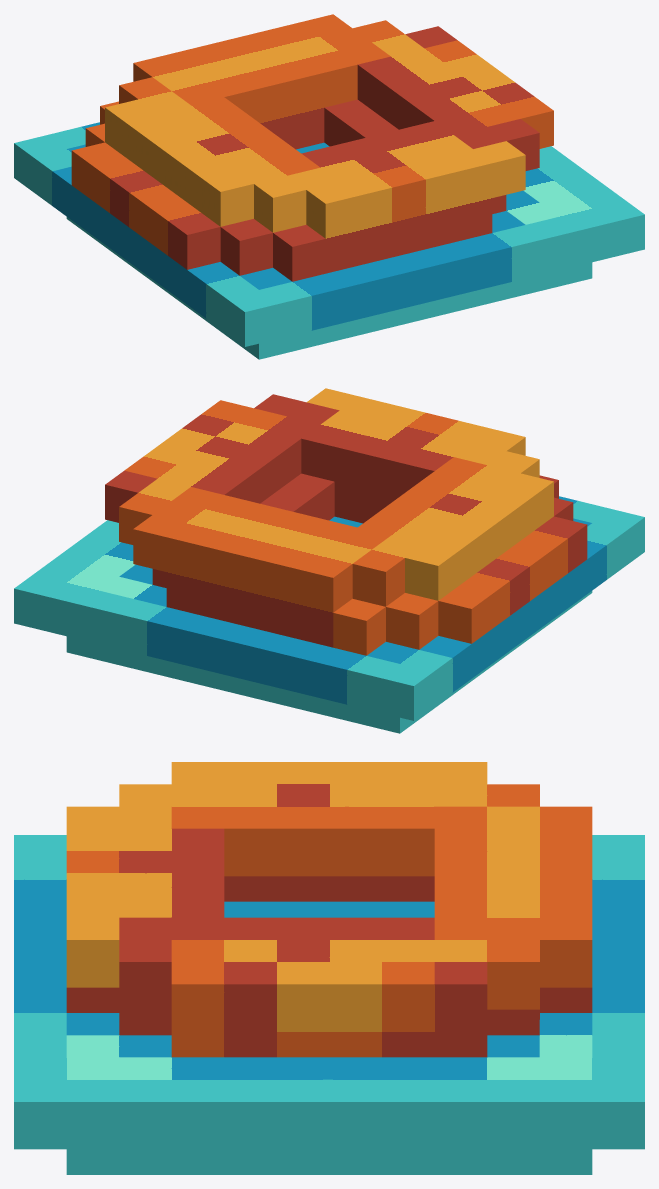
File: SushiBoost1.fbx
3 renders of one model, top to bottom at view 1: azimuth 30°, elevation 25°; view 2: azimuth 150°, elevation 25°; view 3: azimuth 270°, elevation 25°, orthographic. The views are drawn at different scales.
Parts seen in each view (by area): view 1: SushiBoost1; view 2: SushiBoost1; view 3: SushiBoost1.
Part boxes in pixels (x1=…): SushiBoost1: x1=14, y1=14, x2=644, y2=359; SushiBoost1: x1=14, y1=388, x2=644, y2=733; SushiBoost1: x1=14, y1=762, x2=644, y2=1174.
Size of the model in its own units: 1.19 by 0.3972 by 1.19.
